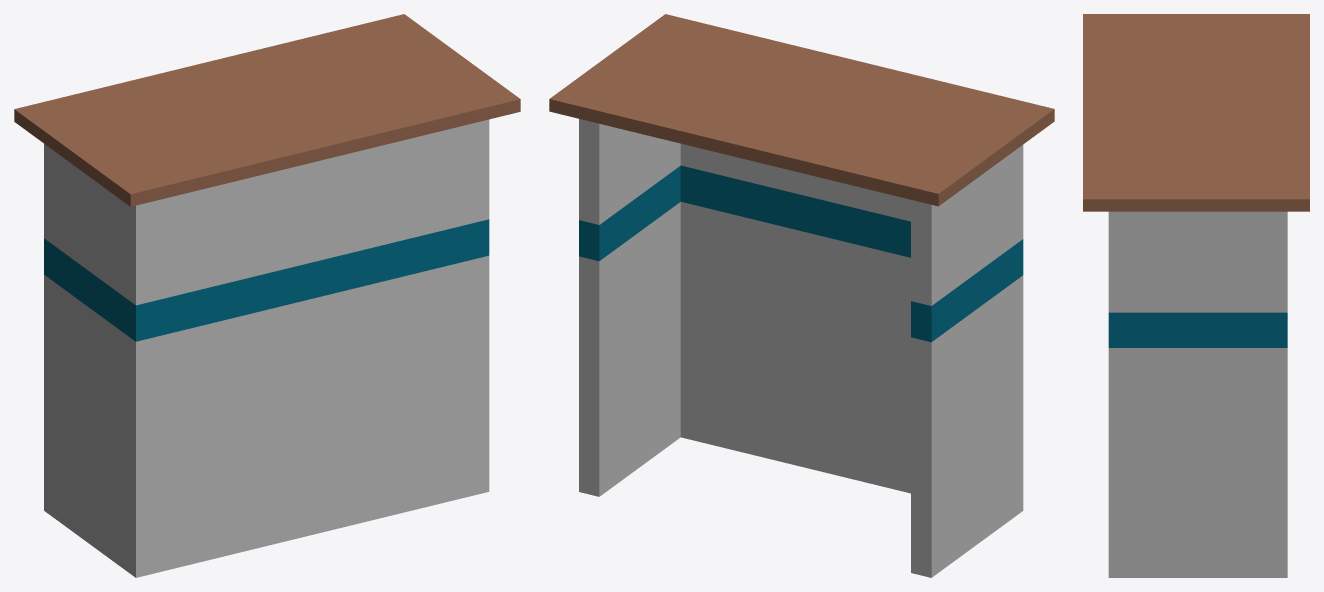
Rendered from M_Desk_0.fbx.
3 renders of one model, left to right at view 1: azimuth 30°, elevation 25°; view 2: azimuth 150°, elevation 25°; view 3: azimuth 270°, elevation 25°, orthographic. The views are drawn at different scales.
Parts seen in each view (by area): view 1: M_Desk_0; view 2: M_Desk_0; view 3: M_Desk_0.
Boxes of the visible parts, left/top/right/bottom form: M_Desk_0: left=14, top=14, right=520, bottom=577; M_Desk_0: left=549, top=14, right=1054, bottom=577; M_Desk_0: left=1083, top=14, right=1309, bottom=577.
Size of the model in its own units: 479 by 467 by 248.
